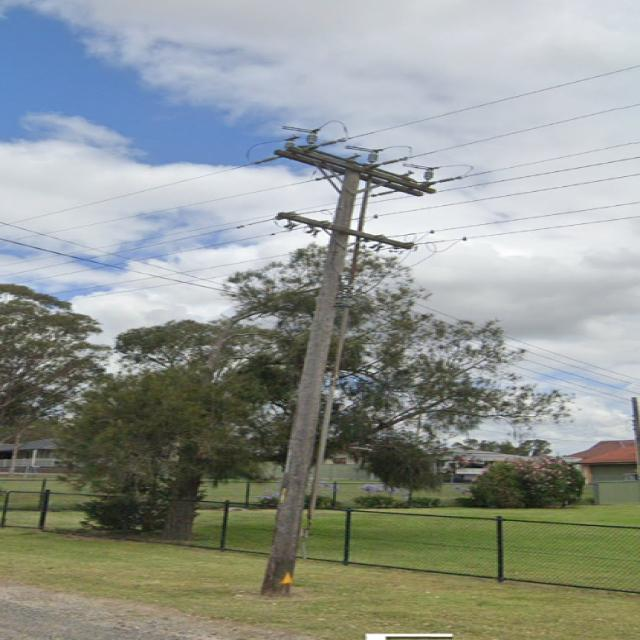HV-transmission: (251, 133, 467, 198)
crossarm: (273, 149, 424, 196), (286, 147, 436, 194), (276, 212, 414, 250)
timber-pole: (260, 161, 368, 595)
